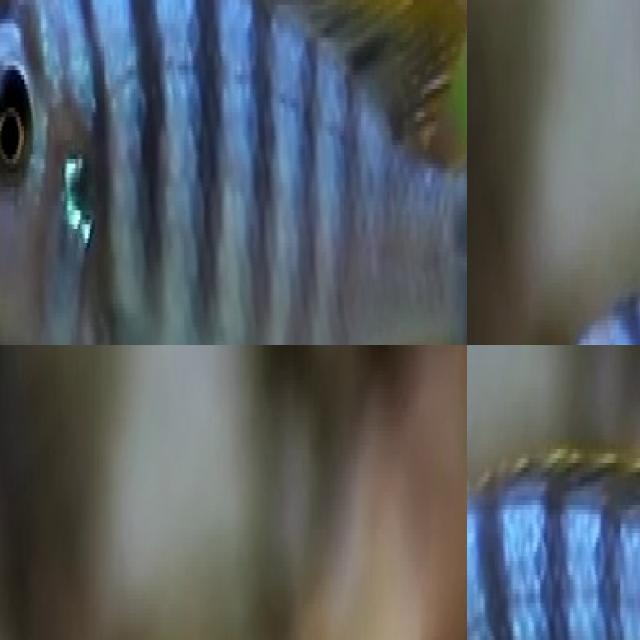fish: (0, 0, 467, 345), (481, 147, 640, 345)
